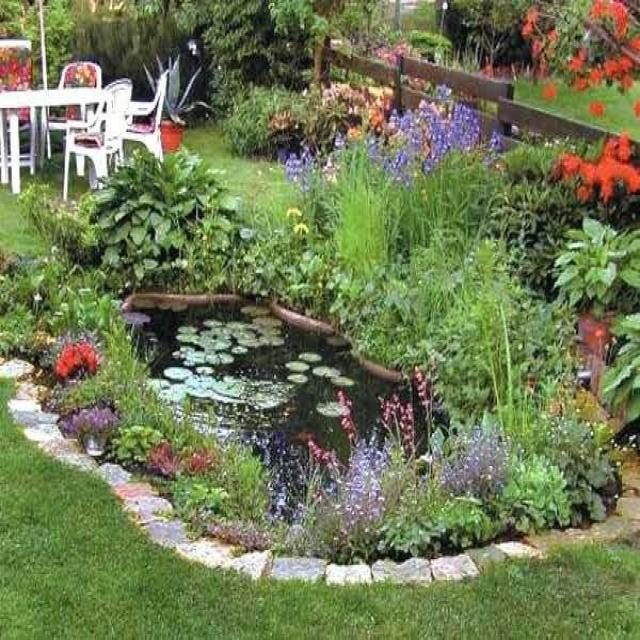Ponds: (108, 285, 478, 534)
